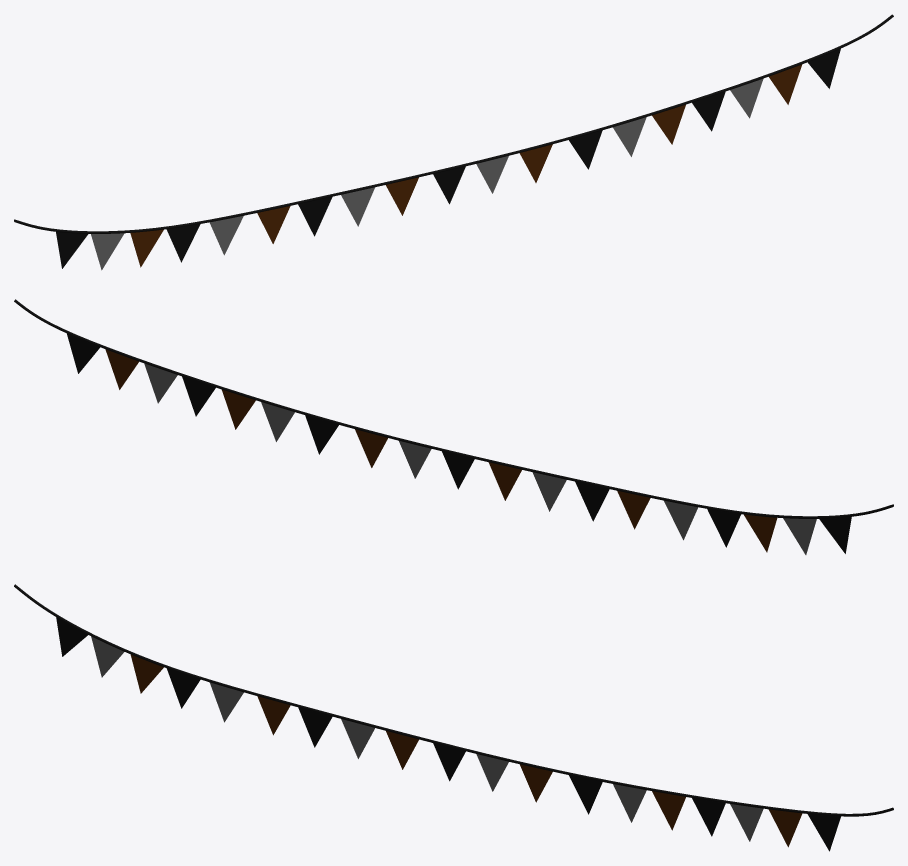
The model's file is banner.fbx.
The picture shows the model from 3 angles, top to bottom: view 1: azimuth 30°, elevation 25°; view 2: azimuth 150°, elevation 25°; view 3: azimuth 330°, elevation 25°; orthographic projection.
Parts seen in each view (by area): view 1: banner; view 2: banner; view 3: banner.
Part boxes in pixels (box(x1,y1,x2,y2)): banner: box(14, 14, 893, 270); banner: box(14, 299, 893, 554); banner: box(14, 584, 893, 851).
Bounding box in the file's own units: 736 × 72.97 × 2.07.
